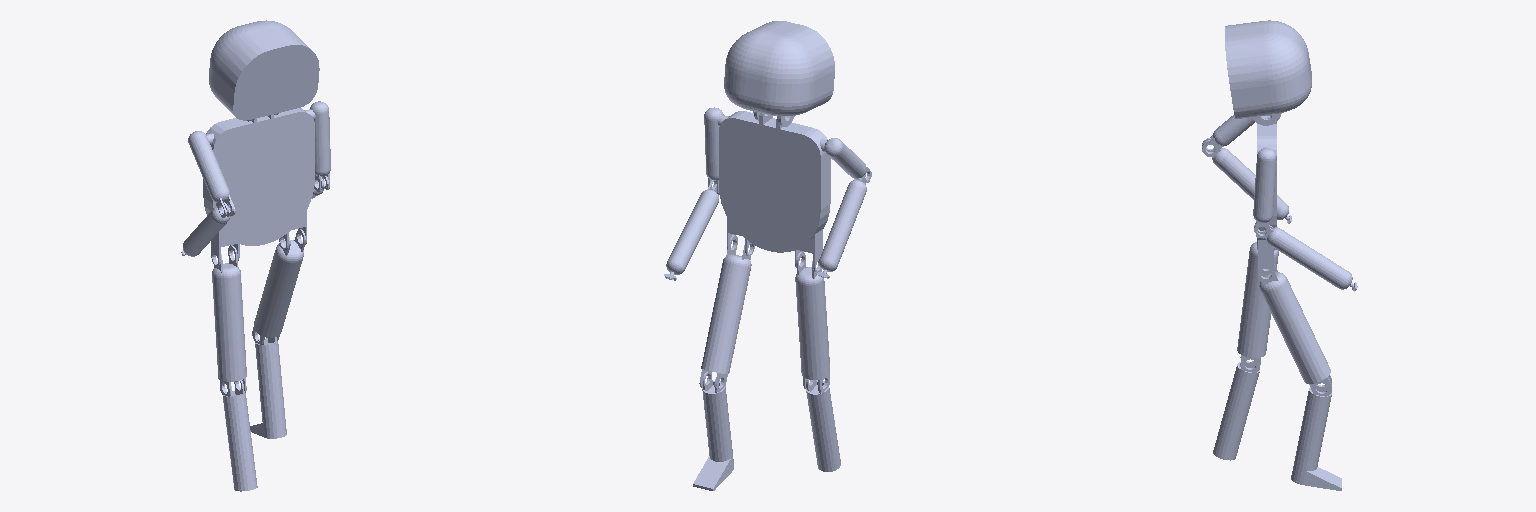
robot.urdf — human_urdf:
<?xml version="1.0" encoding="utf-8"?>
<!-- This URDF was automatically created by SolidWorks to URDF Exporter! Originally created by Stephen Brawner (brawner@gmail.com) 
     Commit Version: 1.6.0-4-g7f85cfe  Build Version: 1.6.7995.38578
     For more information, please see http://wiki.ros.org/sw_urdf_exporter -->
<robot
  name="human_urdf">

  <link name="base_footprint"/>

  <joint name="base_footprint_joint" type="fixed">
  <parent link="base_footprint"/>
  <child link="base_link"/>
  <origin xyz="0 0 0.08" rpy="3.14159 0 0"/>
  </joint>
  
  <link
    name="base_link">
    <inertial>
      <origin
        xyz="6.1619E-08 0.0025013 0.00081305"
        rpy="0 0 0" />
      <mass
        value="0.0046092" />
      <inertia
        ixx="4.1497E-07"
        ixy="-9.5688E-14"
        ixz="2.9922E-12"
        iyy="7.1384E-07"
        iyz="-9.7456E-11"
        izz="3.187E-07" />
    </inertial>
    <visual>
      <origin
        xyz="0 0 0"
        rpy="0 0 0" />
      <geometry>
        <mesh
          filename="package://human_urdf/meshes/base_link.STL" />
      </geometry>
      <material
        name="">
        <color
          rgba="0.79216 0.81961 0.93333 1" />
      </material>
    </visual>
    <collision>
      <origin
        xyz="0 0 0"
        rpy="0 0 0" />
      <geometry>
        <mesh
          filename="package://human_urdf/meshes/base_link.STL" />
      </geometry>
    </collision>
  </link>


  <link
    name="shoulderR_link">
    <inertial>
      <origin
        xyz="0.00037883 -0.0092283 0.0064976"
        rpy="0 0 0" />
      <mass
        value="0.00043205" />
      <inertia
        ixx="1.734E-08"
        ixy="1.263E-10"
        ixz="-8.2186E-10"
        iyy="1.5347E-08"
        iyz="2.1665E-09"
        izz="3.291E-09" />
    </inertial>
    <visual>
      <origin
        xyz="0 0 0"
        rpy="0 0 0" />
      <geometry>
        <mesh
          filename="package://human_urdf/meshes/shoulderR_link.STL" />
      </geometry>
      <material
        name="">
        <color
          rgba="0.79216 0.81961 0.93333 1" />
      </material>
    </visual>
    <collision>
      <origin
        xyz="0 0 0"
        rpy="0 0 0" />
      <geometry>
        <mesh
          filename="package://human_urdf/meshes/shoulderR_link.STL" />
      </geometry>
    </collision>
  </link>


  <joint
    name="joint_shoulderR"
    type="revolute">
    <origin
      xyz="0.0077756 0.0025 -0.013145"
      rpy="0 0 1.5708" />
    <parent
      link="base_link" />
    <child
      link="shoulderR_link" />
    <axis
      xyz="0 1 0" />
    <limit
        lower="-1.5708"
        upper="1.5708"
        effort="10"
        velocity="5" />
  </joint>

  <link
    name="elbowR_link">
    <inertial>
      <origin
        xyz="-0.010086 -0.0015 -0.010143"
        rpy="0 0 0" />
      <mass
        value="0.00047524" />
      <inertia
        ixx="1.2989E-08"
        ixy="-2.2731E-17"
        ixz="-1.1482E-08"
        iyy="2.4409E-08"
        iyz="8.351E-18"
        izz="1.2859E-08" />
    </inertial>
    <visual>
      <origin
        xyz="0 0 0"
        rpy="0 0 0" />
      <geometry>
        <mesh
          filename="package://human_urdf/meshes/elbowR_link.STL" />
      </geometry>
      <material
        name="">
        <color
          rgba="0.79216 0.81961 0.93333 1" />
      </material>
    </visual>
    <collision>
      <origin
        xyz="0 0 0"
        rpy="0 0 0" />
      <geometry>
        <mesh
          filename="package://human_urdf/meshes/elbowR_link.STL" />
      </geometry>
    </collision>
  </link>
  <joint
    name="joint_elbowR"
    type="revolute">
    <origin
      xyz="0.0011176 -0.0115 0.01917"
      rpy="3.1416 0.058237 0" />
    <parent
      link="shoulderR_link" />
    <child
      link="elbowR_link" />
    <axis
      xyz="0 1 0" />
    <limit
        lower="-0.875"
        upper="1.5708"
        effort="10"
        velocity="5" />
  </joint>


  <link
    name="shoulderL_link">
    <inertial>
      <origin
        xyz="-0.0047911 -0.0092283 0.0044054"
        rpy="0 0 0" />
      <mass
        value="0.00043205" />
      <inertia
        ixx="9.7231E-09"
        ixy="-1.5975E-09"
        ixz="7.0474E-09"
        iyy="1.5347E-08"
        iyz="1.4689E-09"
        izz="1.0908E-08" />
    </inertial>
    <visual>
      <origin
        xyz="0 0 0"
        rpy="0 0 0" />
      <geometry>
        <mesh
          filename="package://human_urdf/meshes/shoulderL_link.STL" />
      </geometry>
      <material
        name="">
        <color
          rgba="0.79216 0.81961 0.93333 1" />
      </material>
    </visual>
    <collision>
      <origin
        xyz="0 0 0"
        rpy="0 0 0" />
      <geometry>
        <mesh
          filename="package://human_urdf/meshes/shoulderL_link.STL" />
      </geometry>
    </collision>


  </link>
  <joint
    name="joint_shoulderL"
    type="revolute">
    <origin
      xyz="-0.0077756 0.0025 -0.013145"
      rpy="0 0 -1.5708" />
    <parent
      link="base_link" />
    <child
      link="shoulderL_link" />
    <axis
      xyz="0 1 0" />
    <limit
        lower="-1.5708"
        upper="1.5708"
        effort="10"
        velocity="5" />
  </joint>


  <link
    name="elbowL_link">
    <inertial>
      <origin
        xyz="-0.010017 -0.0015 0.010211"
        rpy="0 0 0" />
      <mass
        value="0.00047524" />
      <inertia
        ixx="1.3144E-08"
        ixy="1.683E-17"
        ixz="1.148E-08"
        iyy="2.4409E-08"
        iyz="1.4289E-17"
        izz="1.2704E-08" />
    </inertial>
    <visual>
      <origin
        xyz="0 0 0"
        rpy="0 0 0" />
      <geometry>
        <mesh
          filename="package://human_urdf/meshes/elbowL_link.STL" />
      </geometry>
      <material
        name="">
        <color
          rgba="0.79216 0.81961 0.93333 1" />
      </material>
    </visual>
    <collision>
      <origin
        xyz="0 0 0"
        rpy="0 0 0" />
      <geometry>
        <mesh
          filename="package://human_urdf/meshes/elbowL_link.STL" />
      </geometry>
    </collision>
  </link>
  <joint
    name="joint_elbowL"
    type="revolute">
    <origin
      xyz="-0.014135 -0.0115 0.012997"
      rpy="0 0 3.1416" />
    <parent
      link="shoulderL_link" />
    <child
      link="elbowL_link" />
    <axis
      xyz="0 1 0" />
    <limit
        lower="-0.942"
        upper="1.5708"
        effort="10"
        velocity="5" />
  </joint>
  <link
    name="neck_link">
    <inertial>
      <origin
        xyz="0.00025028 0.004 -0.011501"
        rpy="0 0 0" />
      <mass
        value="0.0078498" />
      <inertia
        ixx="5.37E-07"
        ixy="2.9708E-23"
        ixz="9.9049E-09"
        iyy="4.3754E-07"
        iyz="-2.5878E-23"
        izz="5.4124E-07" />
    </inertial>
    <visual>
      <origin
        xyz="0 0 0"
        rpy="0 0 0" />
      <geometry>
        <mesh
          filename="package://human_urdf/meshes/neck_link.STL" />
      </geometry>
      <material
        name="">
        <color
          rgba="0.79216 0.81961 0.93333 1" />
      </material>
    </visual>
    <collision>
      <origin
        xyz="0 0 0"
        rpy="0 0 0" />
      <geometry>
        <mesh
          filename="package://human_urdf/meshes/neck_link.STL" />
      </geometry>
    </collision>
  </link>
  <joint
    name="joint_neck"
    type="revolute">
    <origin
      xyz="0.004 0.0024699 -0.018935"
      rpy="0 0 1.5708" />
    <parent
      link="base_link" />
    <child
      link="neck_link" />
    <axis
      xyz="0 1 0" />
    <limit
        lower="-1.5708"
        upper="1.5708"
        effort="10"
        velocity="5" />
  </joint>
  <link
    name="waistR_link">
    <inertial>
      <origin
        xyz="0.0068854 -0.0025 0.015762"
        rpy="0 0 0" />
      <mass
        value="0.0013009" />
      <inertia
        ixx="9.0303E-08"
        ixy="-1.1619E-14"
        ixz="-3.5584E-08"
        iyy="1.0576E-07"
        iyz="4.8063E-15"
        izz="2.4388E-08" />
    </inertial>
    <visual>
      <origin
        xyz="0 0 0"
        rpy="0 0 0" />
      <geometry>
        <mesh
          filename="package://human_urdf/meshes/waistR_link.STL" />
      </geometry>
      <material
        name="">
        <color
          rgba="0.79216 0.81961 0.93333 1" />
      </material>
    </visual>
    <collision>
      <origin
        xyz="0 0 0"
        rpy="0 0 0" />
      <geometry>
        <mesh
          filename="package://human_urdf/meshes/waistR_link.STL" />
      </geometry>
    </collision>
  </link>
  <joint
    name="joint_waistR"
    type="revolute">
    <origin
      xyz="0.0125 0.002366 0.021363"
      rpy="0 0 -1.5708" />
    <parent
      link="base_link" />
    <child
      link="waistR_link" />
    <axis
      xyz="0 1 0" />
    <limit
        lower="-1.5708"
        upper="1.5708"
        effort="10"
        velocity="5" />
  </joint>
  <link
    name="kneeR_link">
    <inertial>
      <origin
        xyz="0.0081339 -0.0025 -0.012311"
        rpy="0 0 0" />
      <mass
        value="0.00070121" />
      <inertia
        ixx="2.7167E-08"
        ixy="-1.4134E-25"
        ixz="1.6128E-08"
        iyy="3.7994E-08"
        iyz="2.6849E-25"
        izz="1.4034E-08" />
    </inertial>
    <visual>
      <origin
        xyz="0 0 0"
        rpy="0 0 0" />
      <geometry>
        <mesh
          filename="package://human_urdf/meshes/kneeR_link.STL" />
      </geometry>
      <material
        name="">
        <color
          rgba="0.79216 0.81961 0.93333 1" />
      </material>
    </visual>
    <collision>
      <origin
        xyz="0 0 0"
        rpy="0 0 0" />
      <geometry>
        <mesh
          filename="package://human_urdf/meshes/kneeR_link.STL" />
      </geometry>
    </collision>
  </link>
  <joint
    name="joint_kneeR"
    type="revolute">
    <origin
      xyz="0.013702 0 0.031367"
      rpy="-3.1416 -0.41185 -3.1416" />
    <parent
      link="waistR_link" />
    <child
      link="kneeR_link" />
    <axis
      xyz="0 1 0" />
    <limit
        lower="-1.5708"
        upper="0.75"
        effort="10"
        velocity="5" />
  </joint>
  <link
    name="waistL_link">
    <inertial>
      <origin
        xyz="0.0020088 -0.0025 0.01764"
        rpy="0 0 0" />
      <mass
        value="0.0013009" />
      <inertia
        ixx="1.0461E-07"
        ixy="-1.2411E-14"
        ixz="-1.0905E-08"
        iyy="1.0576E-07"
        iyz="1.2626E-15"
        izz="1.0085E-08" />
    </inertial>
    <visual>
      <origin
        xyz="0 0 0"
        rpy="0 0 0" />
      <geometry>
        <mesh
          filename="package://human_urdf/meshes/waistL_link.STL" />
      </geometry>
      <material
        name="">
        <color
          rgba="0.79216 0.81961 0.93333 1" />
      </material>
    </visual>
    <collision>
      <origin
        xyz="0 0 0"
        rpy="0 0 0" />
      <geometry>
        <mesh
          filename="package://human_urdf/meshes/waistL_link.STL" />
      </geometry>
    </collision>
  </link>
  <joint
    name="joint_waistL"
    type="revolute">
    <origin
      xyz="-0.0125 0.0025878 0.020855"
      rpy="0 0 1.5708" />
    <parent
      link="base_link" />
    <child
      link="waistL_link" />
    <axis
      xyz="0 1 0" />
    <limit
        lower="-1.5708"
        upper="1.5708"
        effort="10"
        velocity="5" />
  </joint>
  <link
    name="kneeL_link">
    <inertial>
      <origin
        xyz="-0.0019132 -0.0025 -0.014449"
        rpy="0 0 0" />
      <mass
        value="0.00070121" />
      <inertia
        ixx="3.7413E-08"
        ixy="-4.1598E-25"
        ixz="-4.5321E-09"
        iyy="3.7994E-08"
        iyz="-3.2616E-24"
        izz="3.7868E-09" />
    </inertial>
    <visual>
      <origin
        xyz="0 0 0"
        rpy="0 0 0" />
      <geometry>
        <mesh
          filename="package://human_urdf/meshes/kneeL_link.STL" />
      </geometry>
      <material
        name="">
        <color
          rgba="0.79216 0.81961 0.93333 1" />
      </material>
    </visual>
    <collision>
      <origin
        xyz="0 0 0"
        rpy="0 0 0" />
      <geometry>
        <mesh
          filename="package://human_urdf/meshes/kneeL_link.STL" />
      </geometry>
    </collision>
  </link>
  <joint
    name="joint_kneeL"
    type="revolute">
    <origin
      xyz="0.0039601 0 0.034775"
      rpy="3.1416 -0.11339 -3.1416" />
    <parent
      link="waistL_link" />
    <child
      link="kneeL_link" />
    <axis
      xyz="0 1 0" />
    <limit
        lower="-0.2"
        upper="1.5708"
        effort="10"
        velocity="5" />
  </joint>

  
</robot>

--- Facts derived from the render (not from the file) ---
3 views of the same robot in one strip: view 1: azimuth 30°, elevation 25°; view 2: azimuth 150°, elevation 25°; view 3: azimuth 270°, elevation 25° (orthographic).
Robot: human_urdf — 11 links, 10 joints (9 revolute, 1 fixed); root link base_footprint; default pose: all joints at 0.
Visible links, largest first — view 1: base_link, neck_link, waistL_link, waistR_link, kneeR_link, kneeL_link, shoulderL_link, shoulderR_link, elbowL_link; view 2: base_link, neck_link, waistR_link, waistL_link, kneeR_link, kneeL_link, elbowL_link, elbowR_link, shoulderR_link, shoulderL_link; view 3: neck_link, waistR_link, kneeR_link, waistL_link, kneeL_link, elbowR_link, shoulderR_link, elbowL_link, base_link, shoulderL_link.
Boxes of the visible links, <box> form: base_link: <box>203,108,314,266</box>; neck_link: <box>209,20,319,121</box>; waistL_link: <box>212,245,246,396</box>; waistR_link: <box>252,229,305,344</box>; kneeR_link: <box>250,332,286,438</box>; kneeL_link: <box>223,380,257,491</box>; shoulderL_link: <box>188,131,235,217</box>; shoulderR_link: <box>305,101,330,191</box>; elbowL_link: <box>181,201,233,256</box>; base_link: <box>719,111,830,272</box>; neck_link: <box>724,21,834,126</box>; waistR_link: <box>699,235,751,392</box>; waistL_link: <box>795,252,829,392</box>; kneeR_link: <box>693,372,733,490</box>; kneeL_link: <box>806,378,840,471</box>; elbowL_link: <box>817,167,869,278</box>; elbowR_link: <box>664,180,718,280</box>; shoulderR_link: <box>704,107,728,194</box>; shoulderL_link: <box>820,138,871,182</box>; neck_link: <box>1225,20,1311,125</box>; waistR_link: <box>1259,264,1331,396</box>; kneeR_link: <box>1291,377,1341,490</box>; waistL_link: <box>1237,242,1278,372</box>; kneeL_link: <box>1213,361,1259,460</box>; elbowR_link: <box>1254,222,1357,291</box>; shoulderR_link: <box>1253,147,1276,238</box>; elbowL_link: <box>1202,138,1291,223</box>; base_link: <box>1257,115,1276,280</box>; shoulderL_link: <box>1202,115,1254,156</box>.
Bounding box of the posed robot: 0.0406 × 0.0392 × 0.1239 m (x, y, z).
Meshes: 10 distinct files referenced, 10 mesh visuals loaded (10 binary STL).
